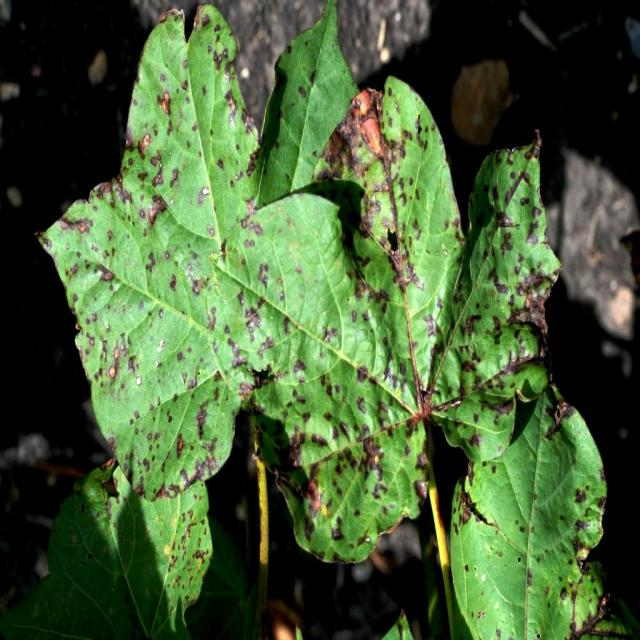Bacterial Blight: (52, 100, 267, 477), (300, 99, 540, 364)
